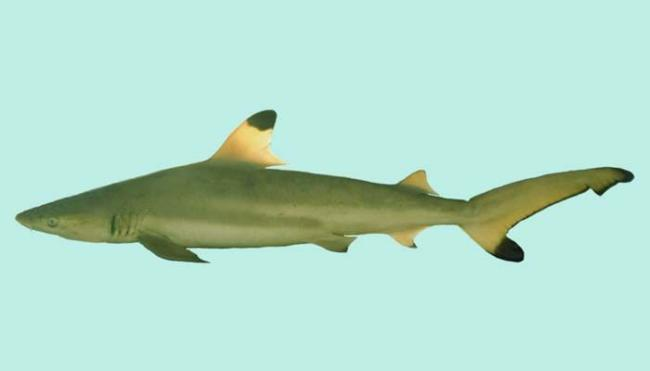fish: (17, 110, 632, 266)
